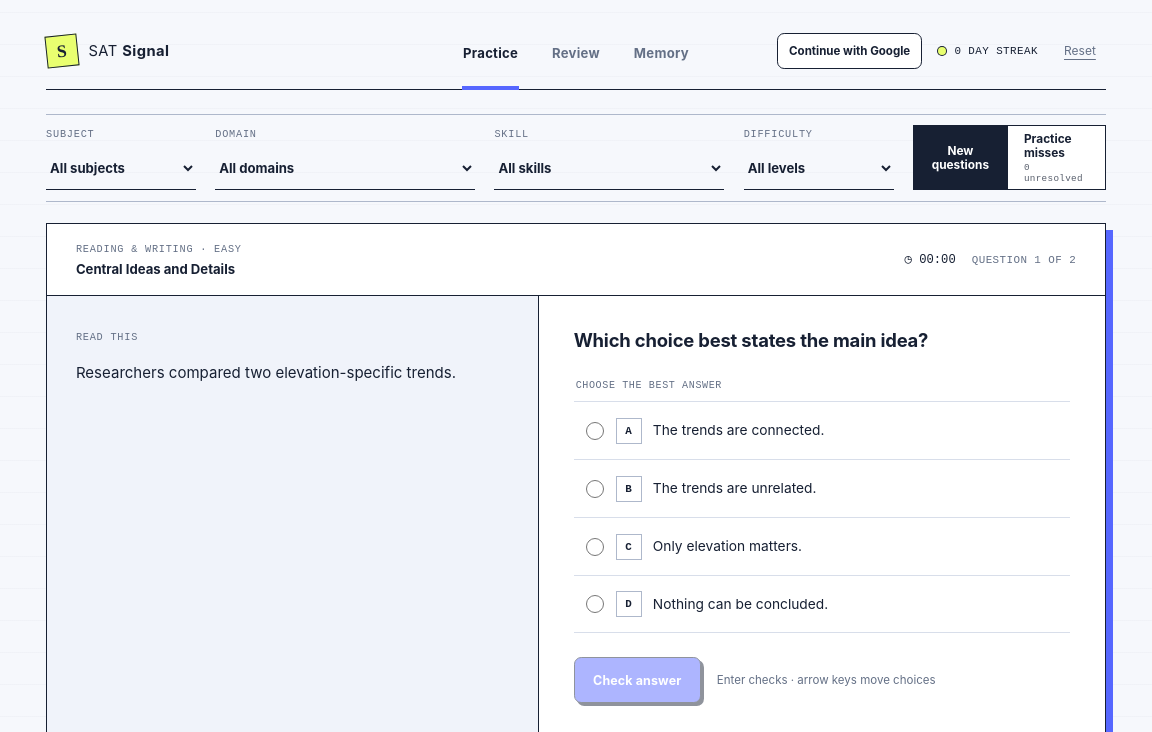
Test: SAT practice app › does not show the first account's cached answers after switching accounts
The image size is (1152, 732).
Check: the heading "Which choice best states the main idea?" is shown, box top-left (574, 329), bottom-right (928, 351)
What coordinates should you click on to do the following:
click the button "Continue with Google"
I would click on:
 (850, 50)
Its box is top-left (777, 32), bottom-right (922, 68).
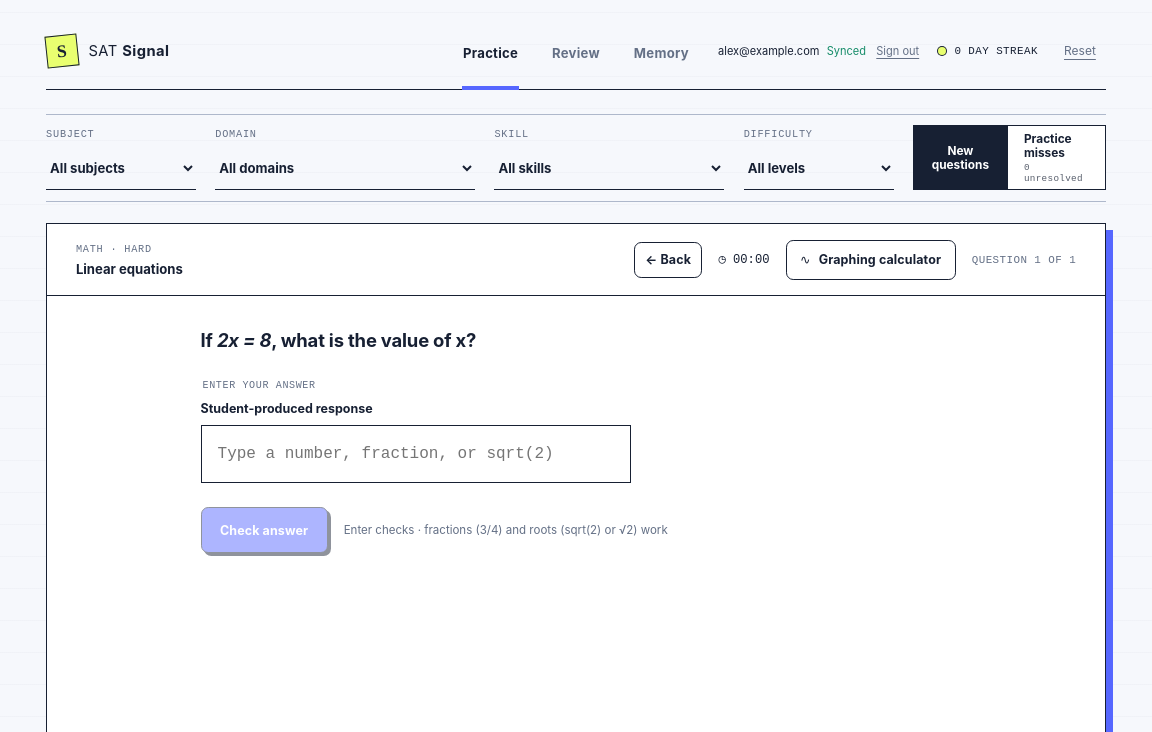
Check: the heading "If 2x = 8, what is the value of x?" is shown, box top-left (200, 329), bottom-right (476, 351)
What coordinates should you click on to do the following:
click the button "Sign out"
I would click on:
 (898, 50)
Its box is top-left (873, 32), bottom-right (922, 68).
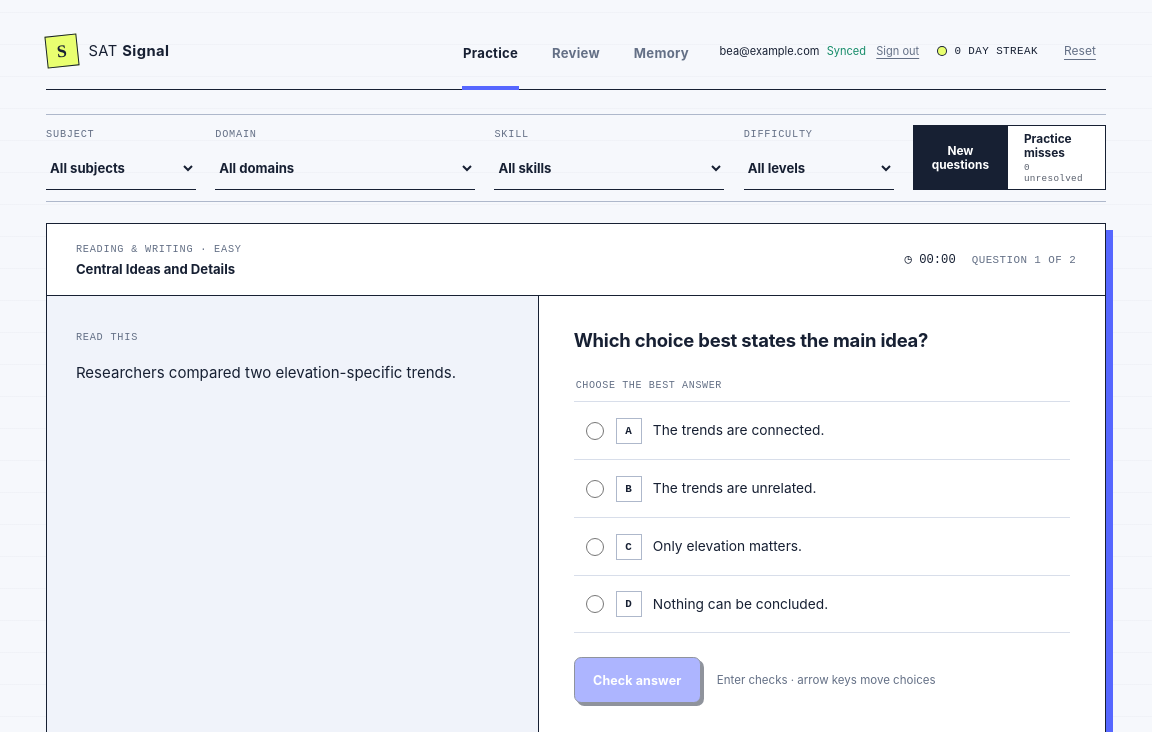
Check: the heading "Which choice best states the main idea?" is shown, box top-left (574, 329), bottom-right (928, 351)
Check: the text "bea@example.com" is shown, box top-left (720, 44), bottom-right (819, 58)
